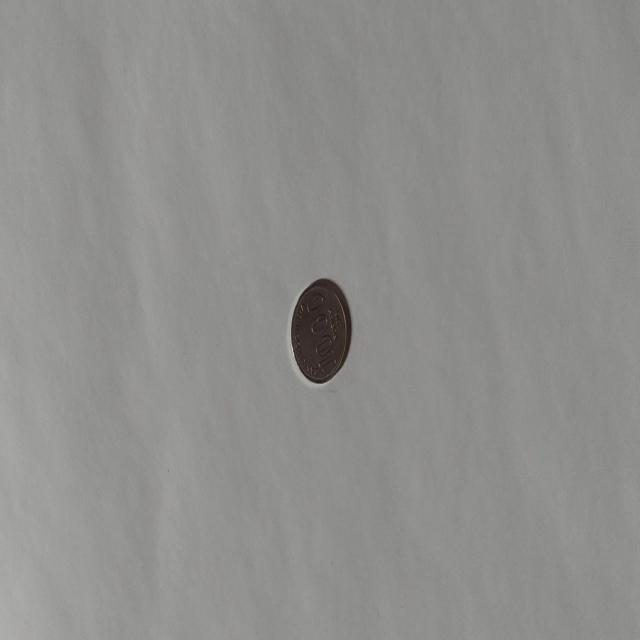seribu rupiah koin: (288, 276, 350, 385)
